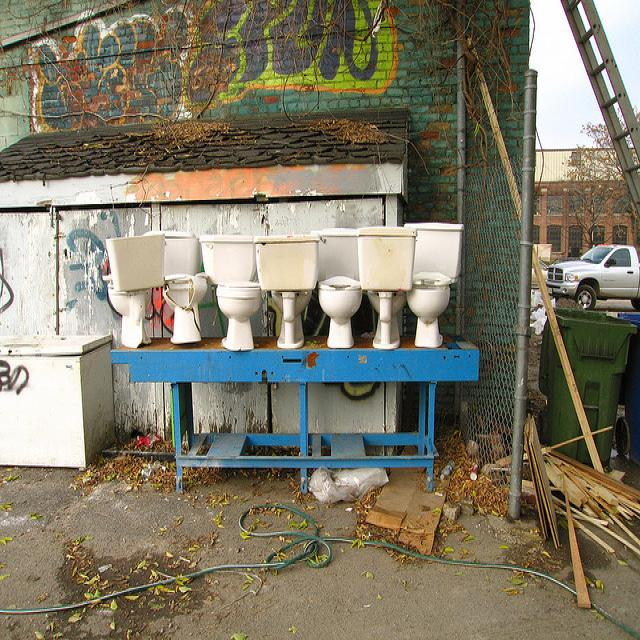Vehicle: (546, 244, 640, 311), (532, 258, 550, 292)
